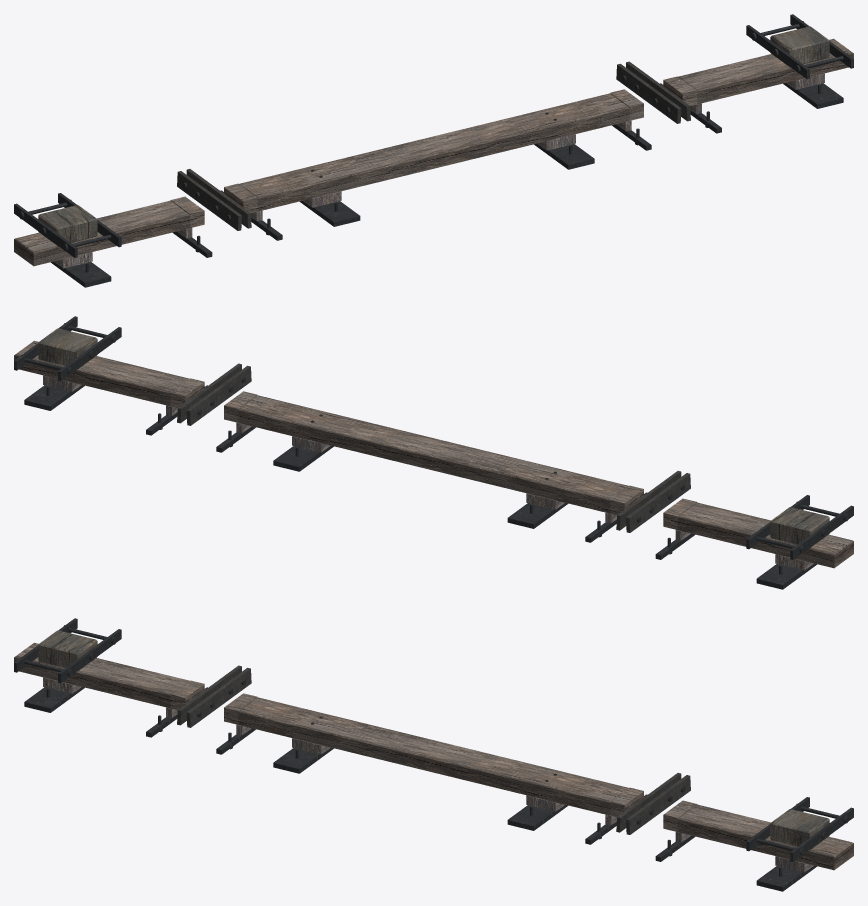
Rendered from Model_BeishaheBridgeJoint.glb.
3 views of the same model, one above another, from view 1: azimuth 30°, elevation 25°; view 2: azimuth 150°, elevation 25°; view 3: azimuth 330°, elevation 25° (orthographic).
Visible parts, largest first — view 1: Shared_DeckJoint01, Shared_DeckJointSplice01, Shared_RailJointSplice01, Shared_GuardJoint01, Shared_GuardJointSplice01, Shared_DeckJointSupport01, Shared_GuardJointBolts01; view 2: Shared_DeckJoint01, Shared_DeckJointSplice01, Shared_RailJointSplice01, Shared_GuardJoint01, Shared_GuardJointSplice01, Shared_DeckJointSupport01, Shared_GuardJointBolts01; view 3: Shared_DeckJoint01, Shared_DeckJointSplice01, Shared_RailJointSplice01, Shared_GuardJoint01, Shared_GuardJointSplice01, Shared_DeckJointSupport01, Shared_GuardJointBolts01.
Part boxes in pixels (x1,y1,x2,y2): Shared_DeckJoint01: (14,38,853,266); Shared_DeckJointSplice01: (51,83,843,287); Shared_RailJointSplice01: (177,61,690,230); Shared_GuardJoint01: (38,26,829,245); Shared_GuardJointSplice01: (14,14,853,257); Shared_DeckJointSupport01: (54,73,824,268); Shared_GuardJointBolts01: (18,21,847,251); Shared_DeckJoint01: (14,340,853,568); Shared_DeckJointSplice01: (24,385,816,589); Shared_RailJointSplice01: (177,363,690,532); Shared_GuardJoint01: (38,328,829,547); Shared_GuardJointSplice01: (14,316,853,559); Shared_DeckJointSupport01: (43,375,813,570); Shared_GuardJointBolts01: (20,323,849,553); Shared_DeckJoint01: (14,642,853,870); Shared_DeckJointSplice01: (24,687,816,891); Shared_RailJointSplice01: (177,665,690,834); Shared_GuardJoint01: (38,630,829,849); Shared_GuardJointSplice01: (14,618,853,861); Shared_DeckJointSupport01: (43,677,813,872); Shared_GuardJointBolts01: (20,625,849,855).
Size of the model in its own units: 2.8 by 0.156 by 0.36.
Materials: 5 (5 with a texture image).
